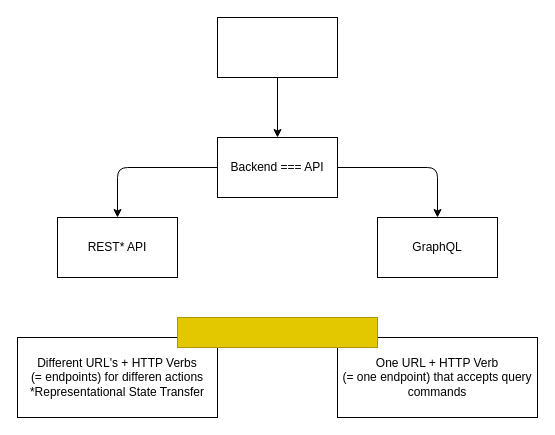
The diagram is 555 pixels wide and 435 high, and some of its shapes have lost their labels. Each missing label, with the centre of its shape:
"Decoupled Ends" goes at (277,47).
"Execute code on the server" goes at (277,332).
